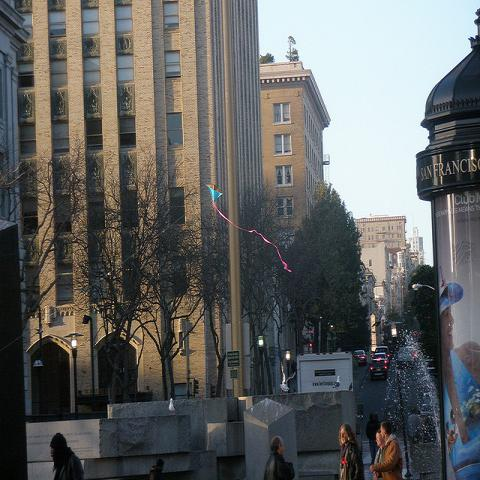car: (370, 359, 387, 379), (374, 345, 390, 366), (353, 350, 367, 367)
truck: (297, 354, 353, 391)
